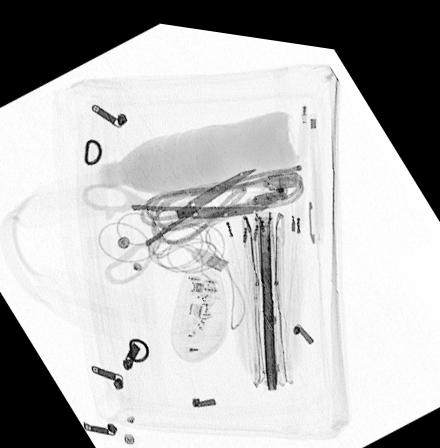Scissors: (78, 159, 273, 281)
